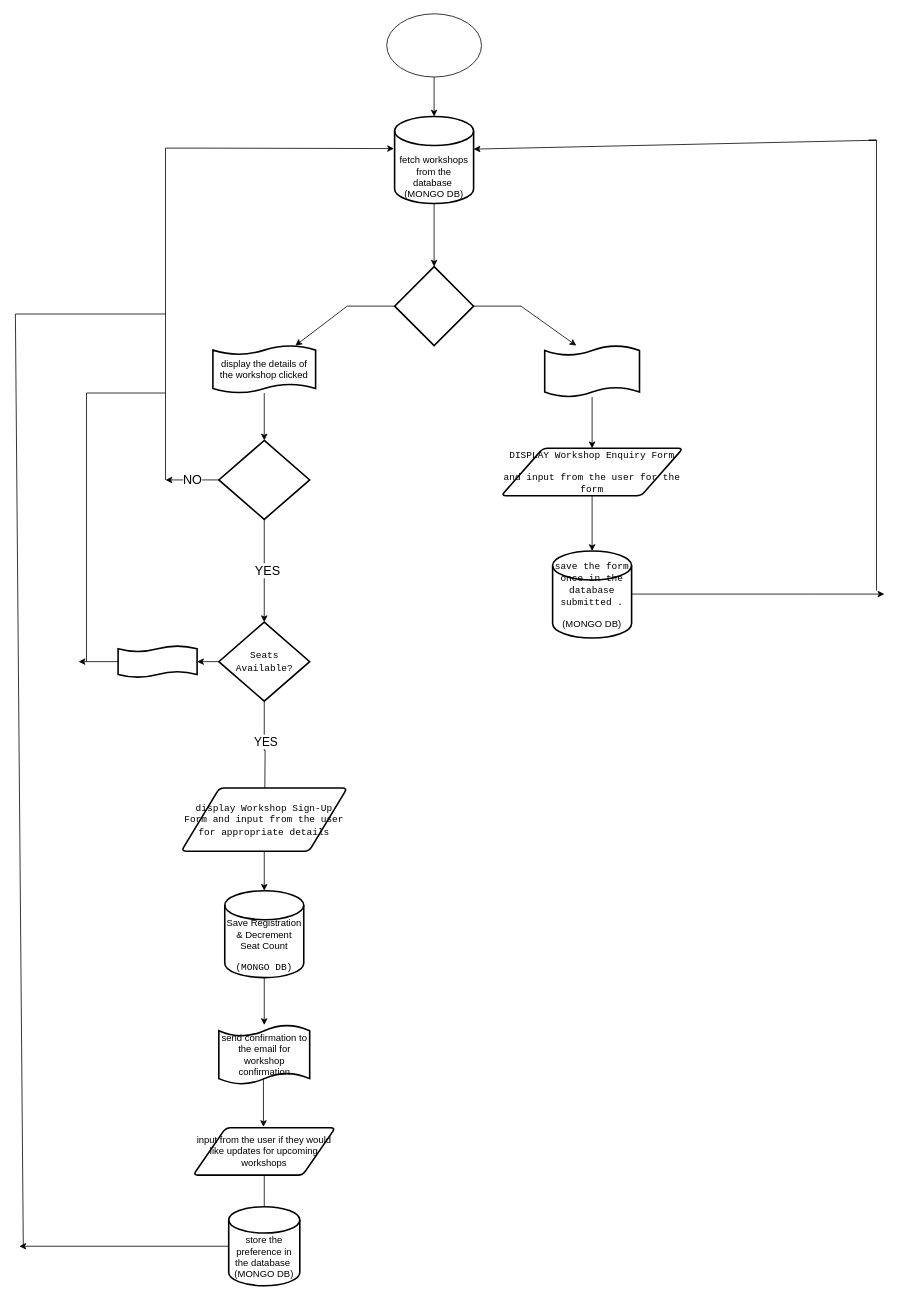
Some shapes in this 905 by 1300 pixel diagram are drawn without their labels. Here are the shapes that lost their labels. From the top down, the centre of each, then its label:
[434,45]: USER
[433,305]: User Action?
[592,370]: User Clicks Conduct Workshop
[264,479]: does the user chose to signup for the workshop
[157,661]: Show "Workshop Full" Message
